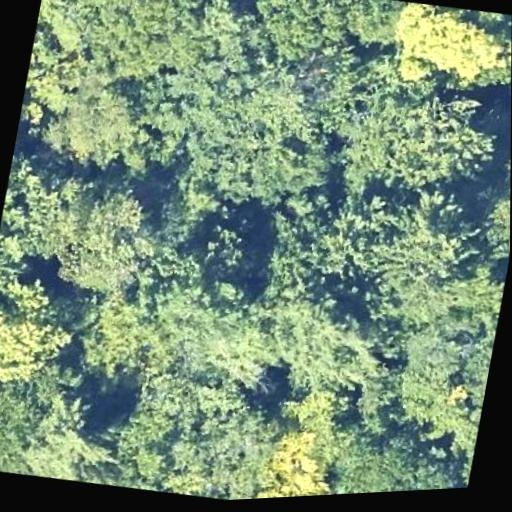tree-top: (181, 62, 344, 229), (103, 356, 270, 506), (326, 71, 509, 203), (250, 160, 411, 309), (28, 168, 161, 302), (370, 188, 486, 337), (387, 298, 499, 444), (142, 268, 268, 392), (51, 0, 212, 94), (263, 289, 385, 405), (134, 186, 256, 299), (378, 0, 512, 101), (327, 410, 467, 495), (44, 61, 144, 169), (0, 157, 74, 296), (17, 385, 113, 488), (0, 270, 75, 395), (248, 413, 353, 499), (70, 286, 155, 392), (331, 0, 438, 65), (0, 375, 62, 480), (256, 0, 341, 65), (189, 0, 271, 65), (469, 149, 511, 269), (488, 13, 512, 117), (24, 30, 59, 98), (36, 0, 69, 31), (493, 11, 512, 36)
